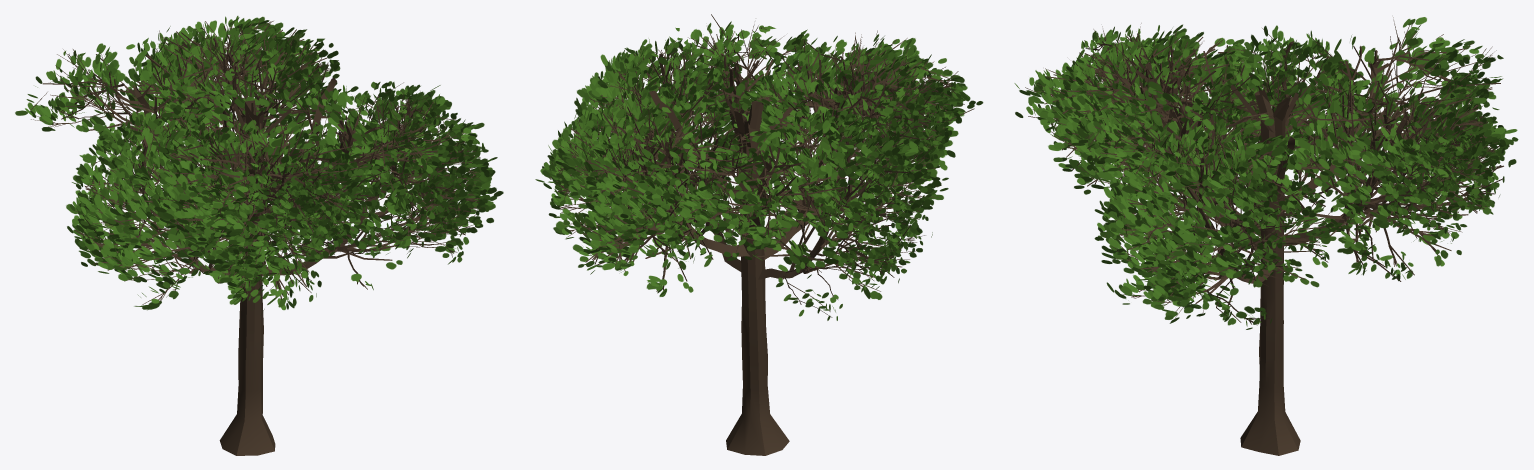
The picture shows the model from 3 angles, left to right: view 1: azimuth 30°, elevation 25°; view 2: azimuth 150°, elevation 25°; view 3: azimuth 270°, elevation 25°; orthographic projection. The views are drawn at different scales.
Visible parts, largest first — view 1: oak 01.001_trunk_Mat.001_0.027; view 2: oak 01.001_trunk_Mat.001_0.027; view 3: oak 01.001_trunk_Mat.001_0.027.
Boxes of the visible parts, left/top/right/bottom form: oak 01.001_trunk_Mat.001_0.027: left=15, top=16, right=503, bottom=455; oak 01.001_trunk_Mat.001_0.027: left=535, top=14, right=983, bottom=455; oak 01.001_trunk_Mat.001_0.027: left=1014, top=17, right=1518, bottom=455.
Size of the model in its own units: 4.73 by 4.18 by 5.15.
2 materials, 1 textured.
